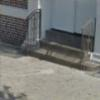stairs: (25, 28, 94, 69)
